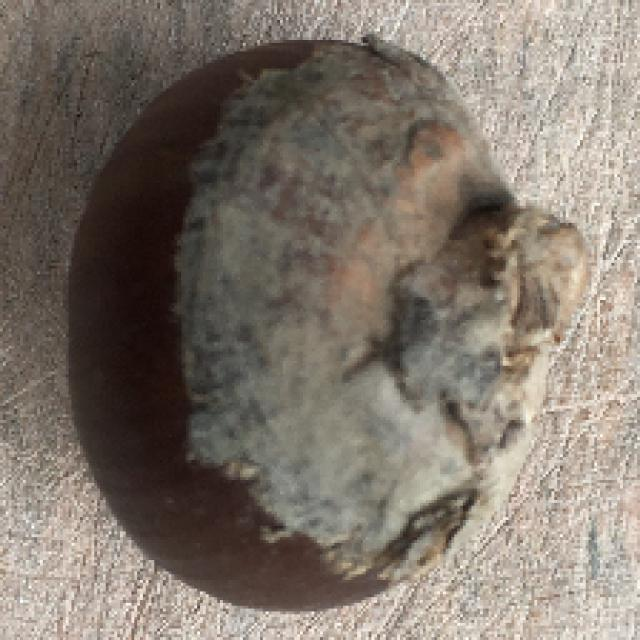damagedHazelnut: (56, 39, 594, 610)
